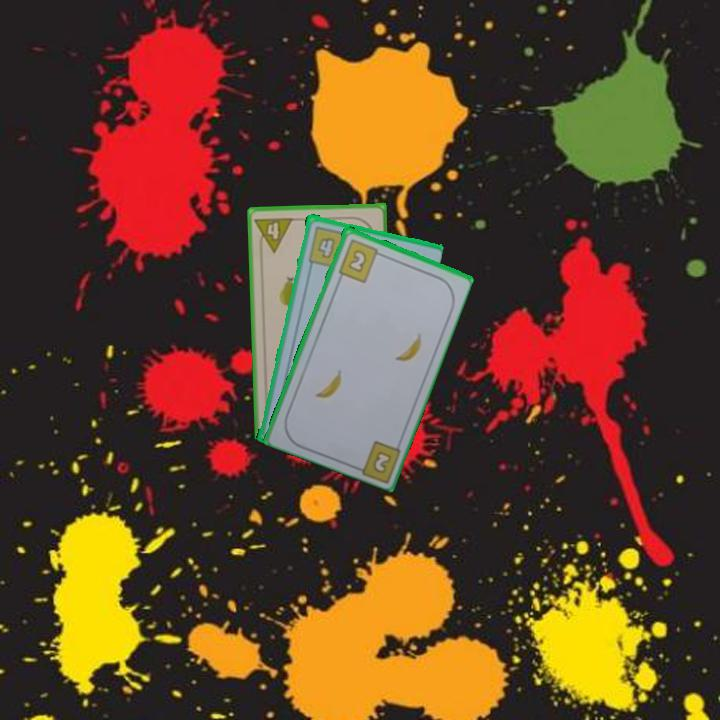2b: (335, 235, 386, 285), (371, 450, 392, 474)
4b: (304, 222, 352, 269)
4p: (251, 213, 296, 255)
